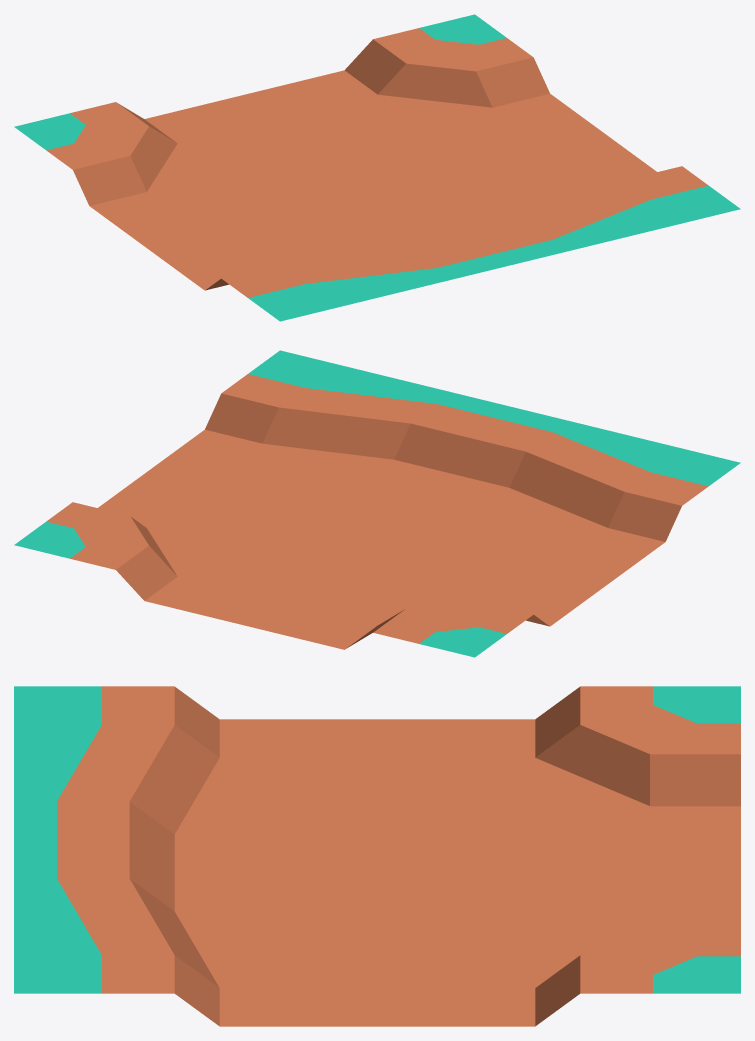
The model's file is ground_pathSplit.fbx.
The picture shows the model from 3 angles, top to bottom: view 1: azimuth 30°, elevation 25°; view 2: azimuth 150°, elevation 25°; view 3: azimuth 270°, elevation 25°; orthographic projection. The views are drawn at different scales.
Visible parts, largest first — view 1: ground_pathSplit; view 2: ground_pathSplit; view 3: ground_pathSplit.
Part boxes in pixels (x1,y1,x2,y2): ground_pathSplit: (14,14,740,321); ground_pathSplit: (14,350,740,657); ground_pathSplit: (14,686,740,1026).
Bounding box in the file's own units: 10 × 0.5 × 10.
